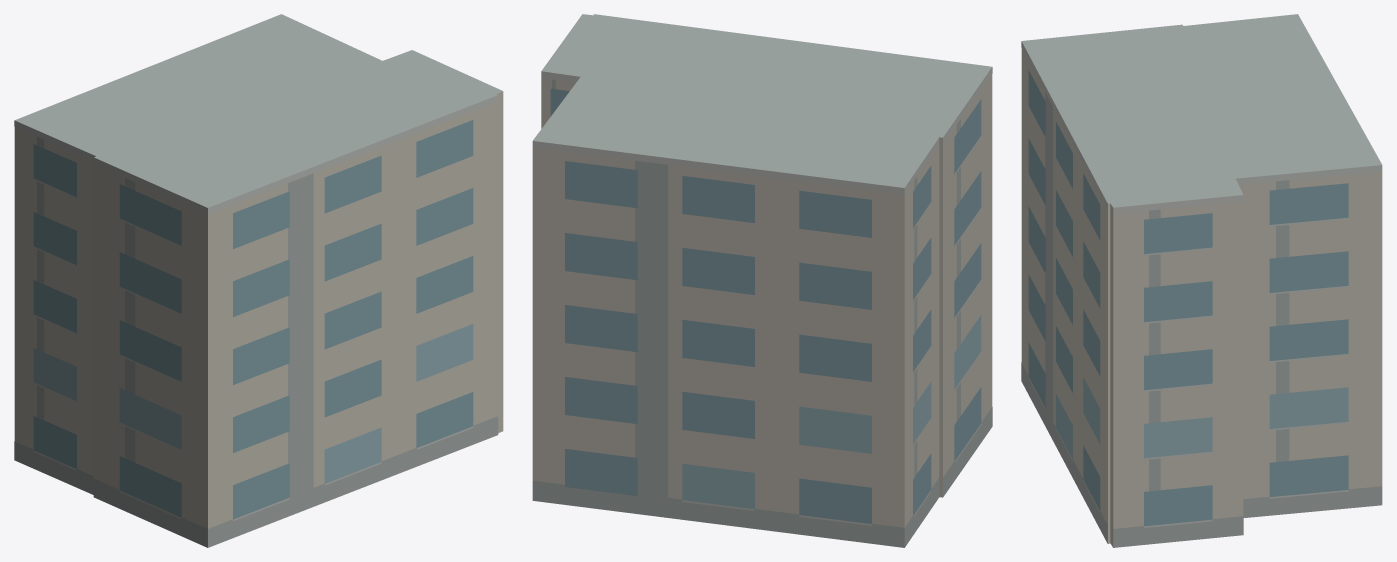
The model's file is survey-upis-32821385.glb.
The picture shows the model from 3 angles, left to right: view 1: azimuth 30°, elevation 25°; view 2: azimuth 150°, elevation 25°; view 3: azimuth 270°, elevation 25°; orthographic projection. The views are drawn at different scales.
Parts seen in each view (by area): view 1: survey-upis-32821385.tmp; view 2: survey-upis-32821385.tmp; view 3: survey-upis-32821385.tmp.
Part boxes in pixels (bbox=[...]): survey-upis-32821385.tmp: bbox=[14, 14, 503, 547]; survey-upis-32821385.tmp: bbox=[532, 14, 992, 547]; survey-upis-32821385.tmp: bbox=[1021, 14, 1382, 547].
Size of the model in its own units: 15.88 by 13 by 12.51.
